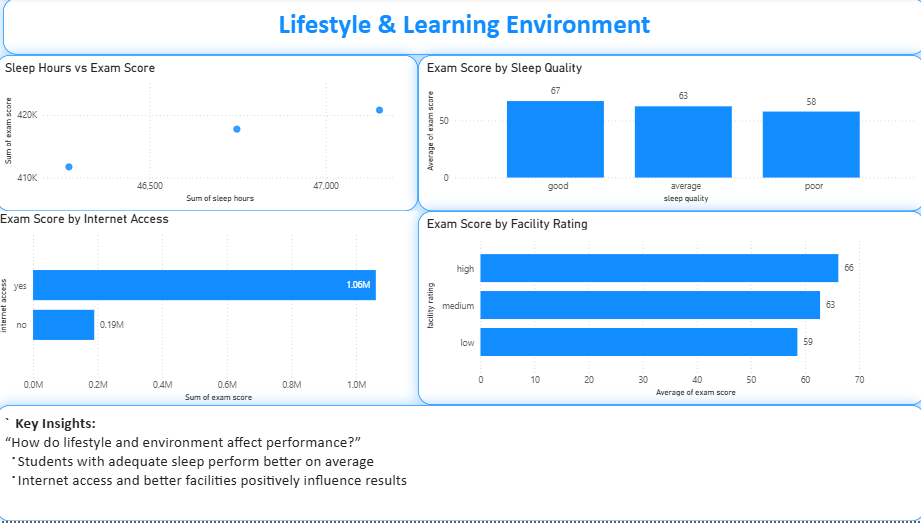

The page's visual inventory and layout, read from the dashboard file:
{"tool":"powerbi","page":{"name":"Page 3","canvas":[1280,720],"ordinal":2},"visuals":[{"type":"textbox","box":[9.6,0,1270.4,78.5],"z":0},{"type":"scatterChart","title":"Sleep Hours vs Exam Score","fields":{"X":["Sum(Exam_Score_Prediction.sleep hours)"],"Y":["Sum(Exam_Score_Prediction.exam score)"],"Category":["Exam_Score_Prediction.gender"]},"box":[0,78.5,580.8,214.7],"z":1000},{"type":"clusteredColumnChart","title":"Exam Score by Sleep Quality","fields":{"Y":["Avg(Exam_Score_Prediction.exam score)"],"Category":["Exam_Score_Prediction.sleep quality"]},"box":[580.8,78.5,697.8,214.7],"z":2000},{"type":"clusteredBarChart","title":"Exam Score by Internet Access","fields":{"Y":["Sum(Exam_Score_Prediction.exam score)"],"Category":["Exam_Score_Prediction.internet access"]},"box":[0,293.2,580.8,267],"z":3000},{"type":"clusteredBarChart","title":"Exam Score by Facility Rating ","fields":{"Y":["Avg(Exam_Score_Prediction.exam score)"],"Category":["Exam_Score_Prediction.facility rating"]},"box":[580.8,293.2,697.8,267],"z":4000},{"type":"textbox","box":[0,560.2,1278.6,159.7],"z":5000}]}

Visuals, with their boxes in screenshot pixels (x1, y1, x2, y2), scaled from the page's 1280x720 canvas onto the 921x523 screenshot:
textbox: <bbox>7, 0, 920, 57</bbox>
"Sleep Hours vs Exam Score" scatterChart: <bbox>0, 57, 418, 213</bbox>
"Exam Score by Sleep Quality" clusteredColumnChart: <bbox>418, 57, 920, 213</bbox>
"Exam Score by Internet Access" clusteredBarChart: <bbox>0, 213, 418, 407</bbox>
"Exam Score by Facility Rating " clusteredBarChart: <bbox>418, 213, 920, 407</bbox>
textbox: <bbox>0, 407, 920, 522</bbox>
